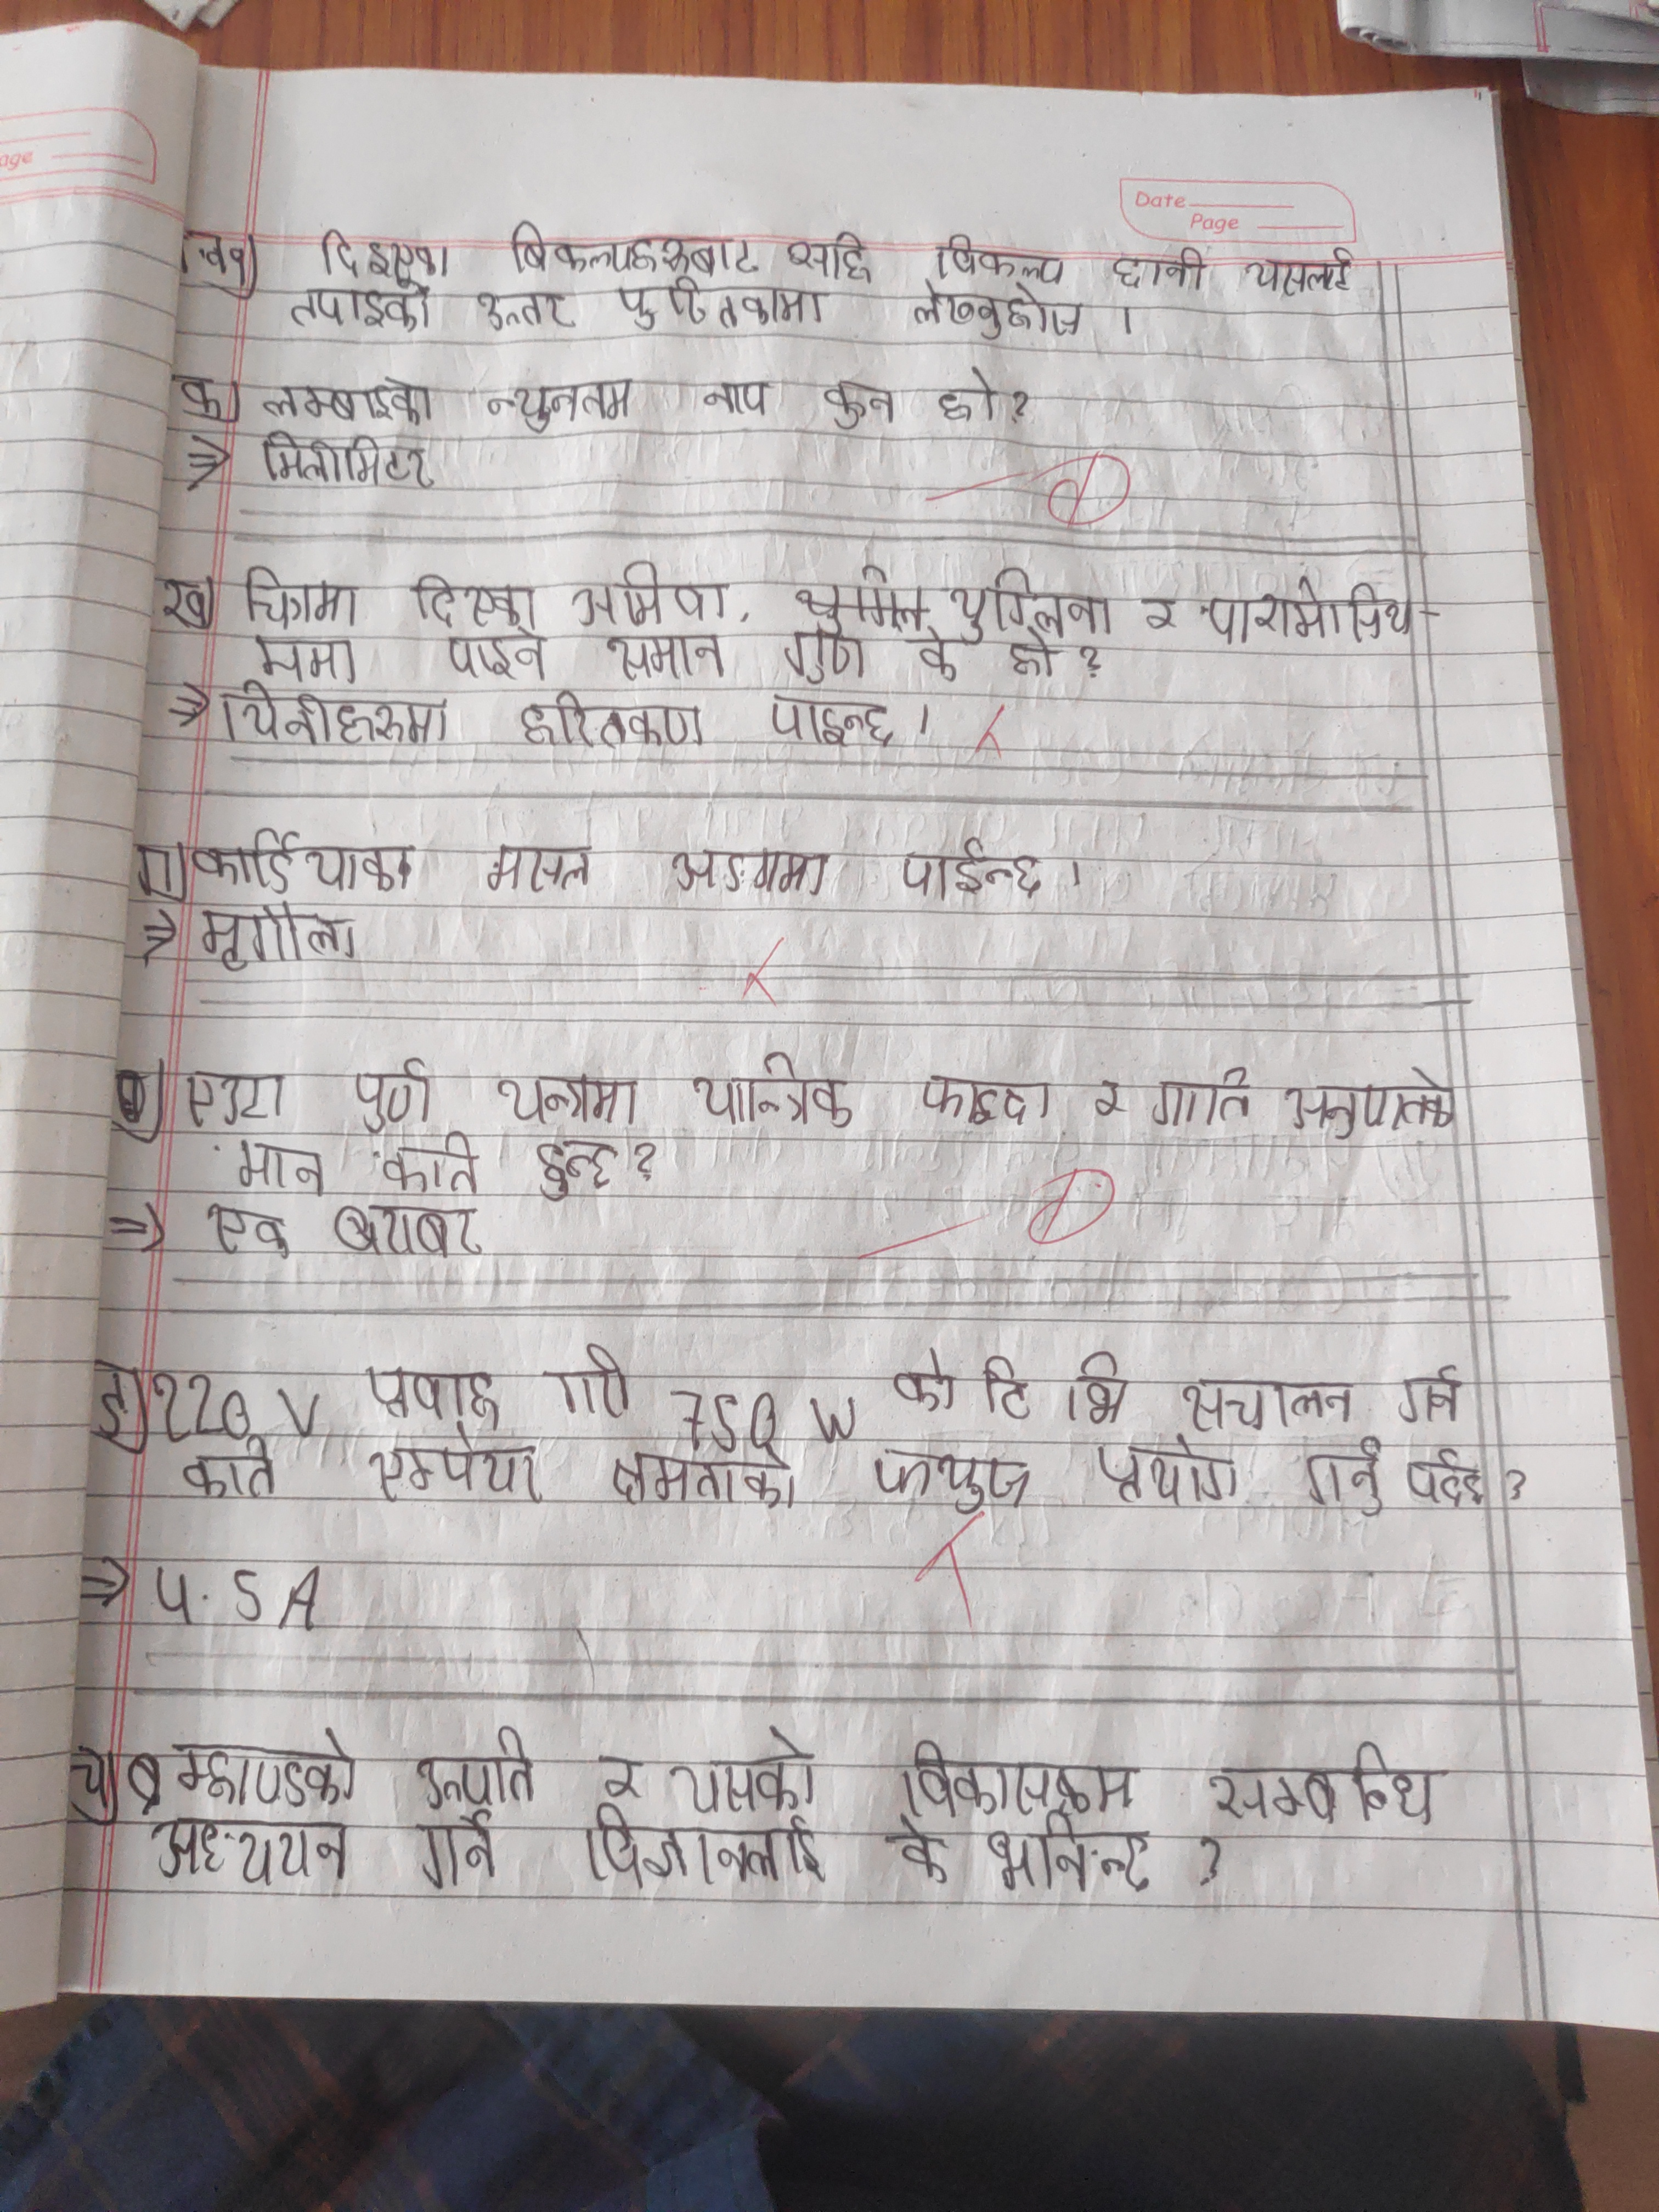text: (570, 1803, 828, 1890), (1197, 1743, 1450, 1825), (894, 1738, 1140, 1818), (148, 1808, 357, 1893), (216, 681, 451, 751), (504, 214, 760, 277), (1202, 571, 1410, 648), (985, 1811, 1154, 1904), (666, 1724, 824, 1818), (192, 827, 416, 894), (176, 1733, 361, 1808), (605, 1442, 800, 1512), (364, 1432, 549, 1505), (974, 1348, 1134, 1430), (687, 1055, 854, 1132), (1283, 1066, 1453, 1141), (873, 1440, 1037, 1517), (953, 566, 1114, 641), (519, 688, 706, 751), (666, 838, 835, 906), (613, 277, 833, 329), (258, 428, 441, 491), (195, 900, 359, 970), (896, 834, 1046, 907), (1176, 1374, 1356, 1435), (411, 1726, 538, 1811), (908, 280, 1089, 340), (1094, 1440, 1248, 1510), (335, 1190, 483, 1261), (568, 559, 725, 624), (497, 1068, 647, 1134), (488, 371, 631, 437), (284, 279, 437, 338), (915, 1069, 1054, 1134), (242, 563, 369, 631), (261, 378, 436, 427), (362, 1362, 502, 1423), (1293, 1435, 1392, 1521), (931, 232, 1073, 289), (547, 1338, 641, 1420), (181, 1068, 291, 1136), (758, 695, 894, 749), (314, 230, 453, 282), (603, 629, 725, 688), (247, 629, 362, 690), (413, 571, 538, 627), (413, 1813, 500, 1890), (1152, 1069, 1255, 1134), (347, 1059, 439, 1130), (380, 1132, 479, 1198), (179, 1439, 279, 1501), (1399, 1440, 1488, 1510), (484, 843, 598, 897), (775, 625, 870, 690), (439, 631, 547, 686), (1241, 240, 1356, 293), (227, 1139, 331, 1197), (523, 1136, 617, 1198), (781, 226, 873, 284), (206, 1198, 291, 1259), (885, 1815, 953, 1888), (1110, 242, 1208, 293), (890, 1350, 962, 1414), (1392, 1369, 1467, 1430), (819, 378, 901, 434), (471, 291, 575, 334), (936, 361, 1000, 427), (999, 629, 1065, 685), (697, 381, 775, 420), (913, 631, 962, 690), (1134, 585, 1176, 650), (598, 1745, 647, 1799), (1091, 1071, 1133, 1123)
